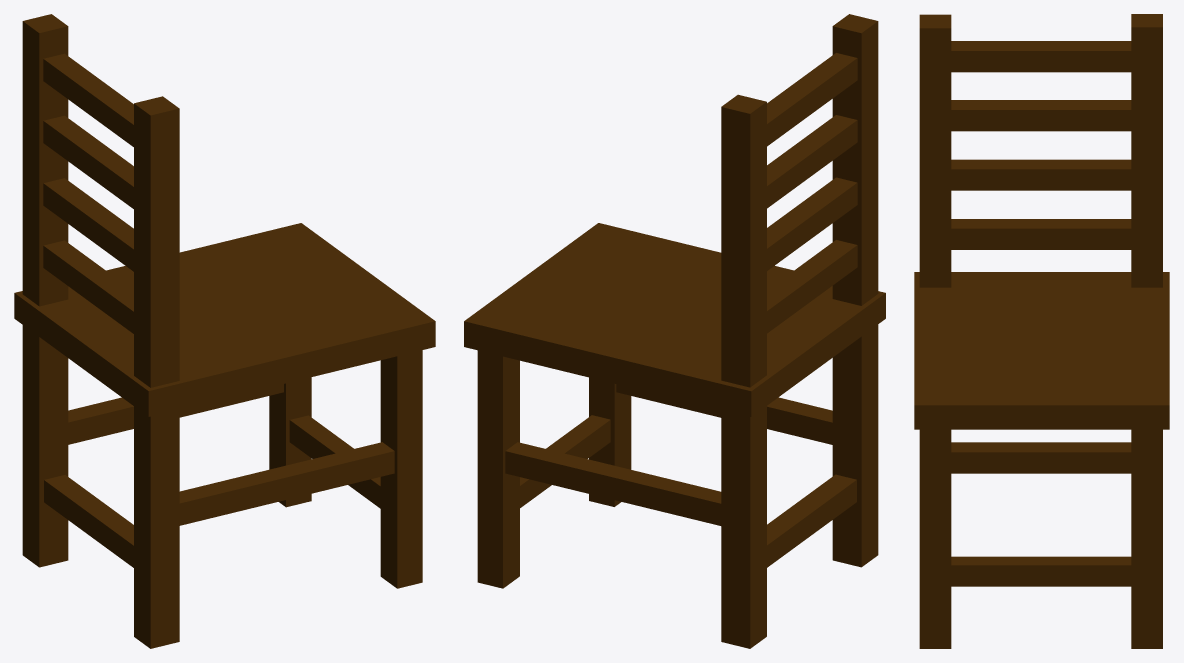
The model's file is chair.fbx.
The picture shows the model from 3 angles, left to right: view 1: azimuth 30°, elevation 25°; view 2: azimuth 150°, elevation 25°; view 3: azimuth 270°, elevation 25°; orthographic projection. The views are drawn at different scales.
Parts seen in each view (by area): view 1: Cube; view 2: Cube; view 3: Cube.
Part boxes in pixels (left/top/right/bottom): Cube: left=14, top=14, right=435, bottom=648; Cube: left=464, top=14, right=885, bottom=648; Cube: left=914, top=14, right=1169, bottom=648.
Bounding box in the file's own units: 241 × 429 × 195.
